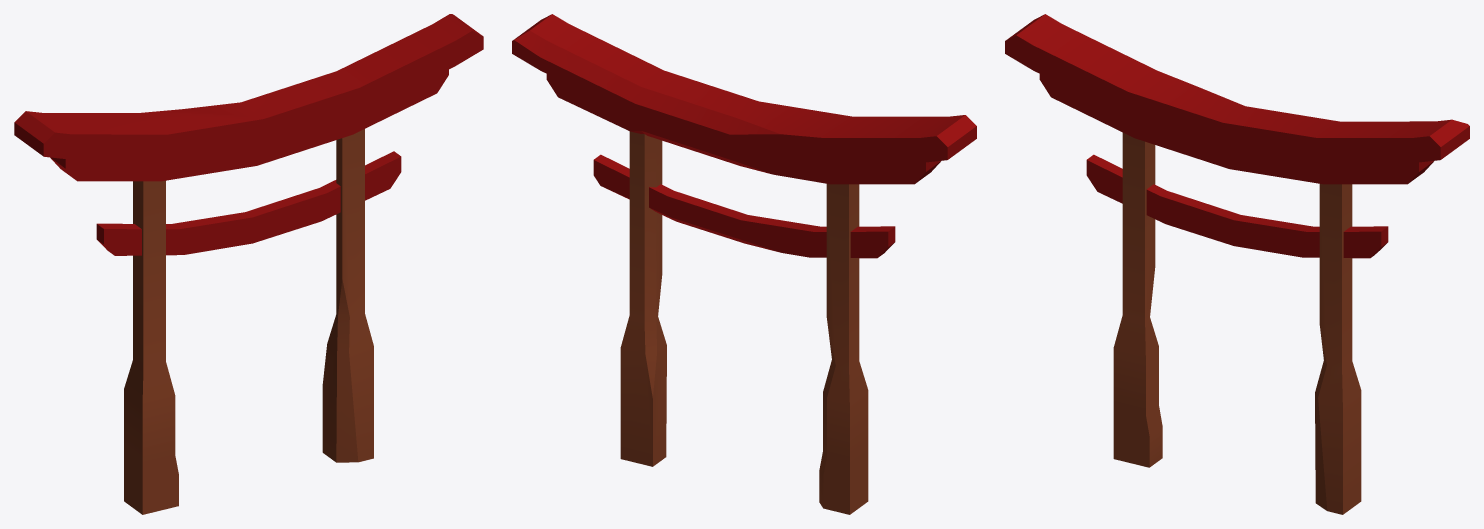
File: Gate_01.FBX
3 renders of one model, left to right at view 1: azimuth 30°, elevation 25°; view 2: azimuth 150°, elevation 25°; view 3: azimuth 330°, elevation 25°, orthographic.
Visible parts, largest first — view 1: Gate_01; view 2: Gate_01; view 3: Gate_01.
Part boxes in pixels (box(x1,y1,x2,y2)): Gate_01: box(14, 14, 483, 514); Gate_01: box(512, 14, 976, 514); Gate_01: box(1005, 14, 1469, 514).
Size of the model in its own units: 88.44 by 78.6 by 10.25.
